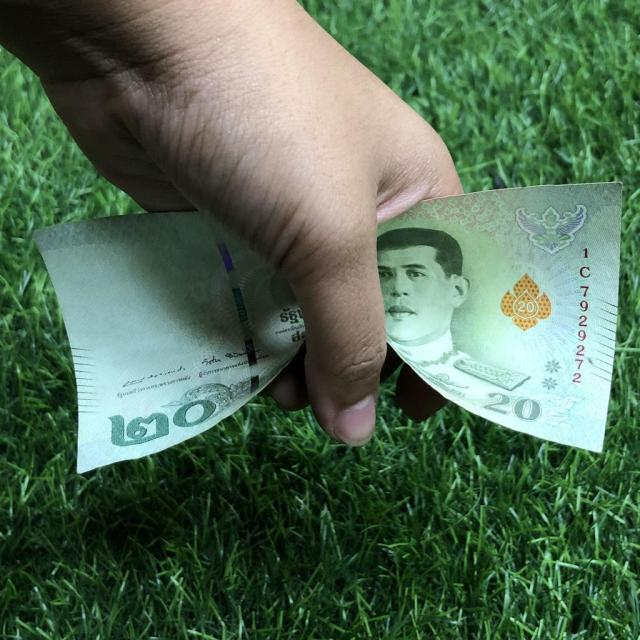THAI20: (33, 213, 305, 473), (378, 183, 620, 451)
